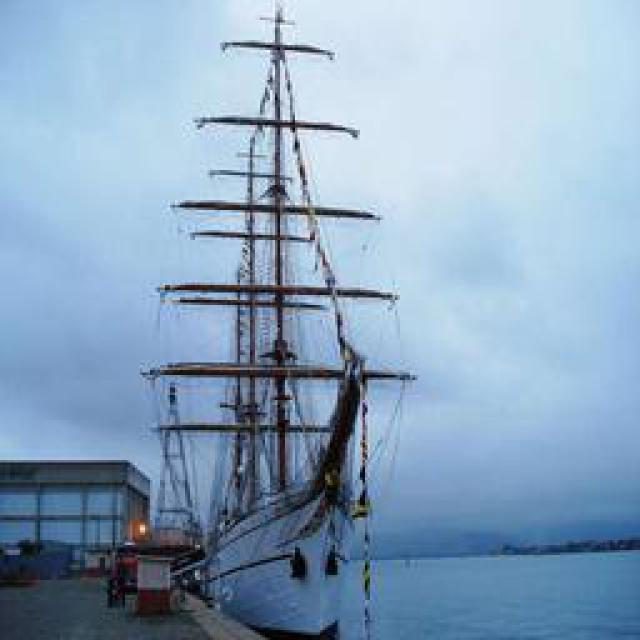Ship: (144, 46, 429, 636)
